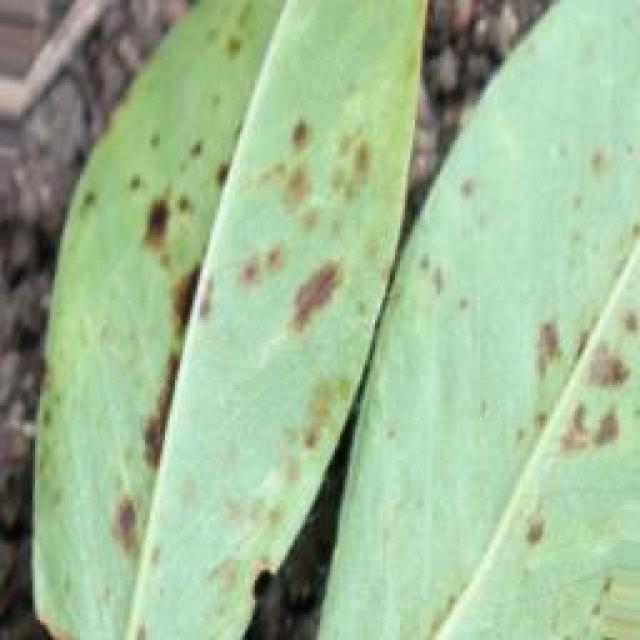Whitefly: (64, 0, 626, 596)
